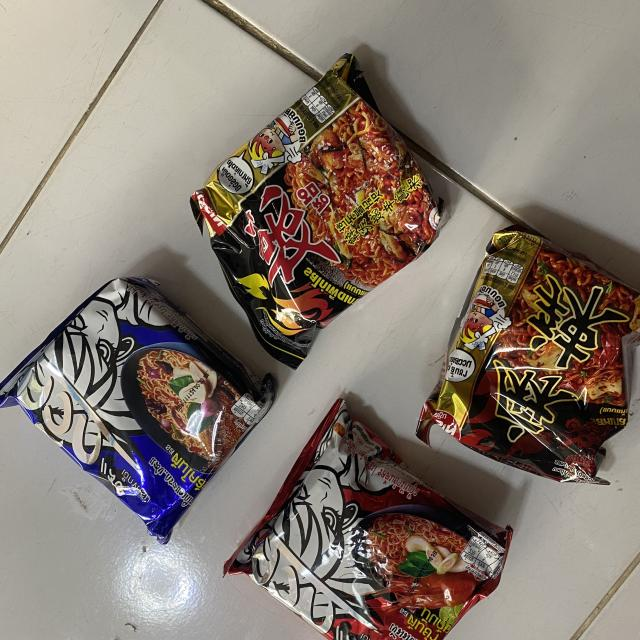plastik: (190, 55, 448, 369), (0, 279, 277, 543), (225, 399, 513, 640), (417, 225, 640, 484)
